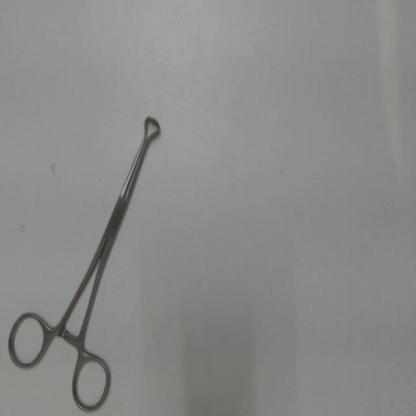Babcock Tissue Forceps: (5, 107, 166, 414)
